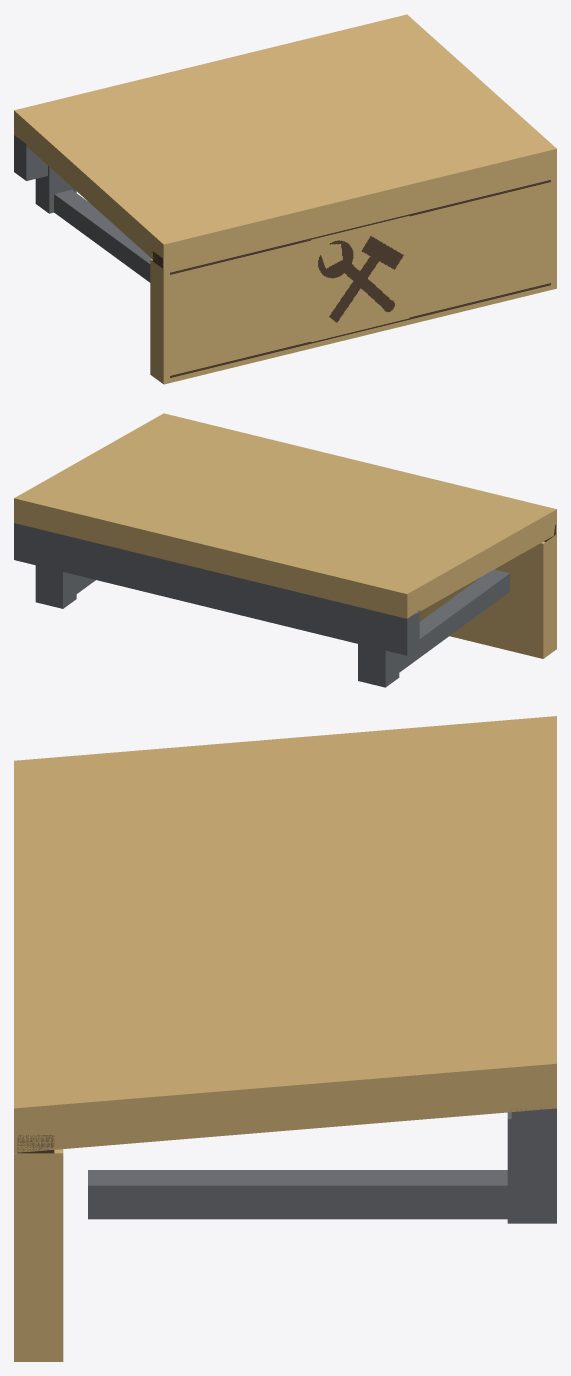
File: building-business-hardware-compact.glb
3 views of the same model, one above another, from view 1: azimuth 30°, elevation 25°; view 2: azimuth 150°, elevation 25°; view 3: azimuth 270°, elevation 25° (orthographic). The views are drawn at different scales.
Visible parts, largest first — view 1: business-hardware-compact; view 2: business-hardware-compact; view 3: business-hardware-compact.
Part boxes in pixels (x1=…): business-hardware-compact: x1=14, y1=14, x2=556, y2=384; business-hardware-compact: x1=14, y1=413, x2=556, y2=687; business-hardware-compact: x1=14, y1=716, x2=556, y2=1361.
Bounding box in the file's own units: 1 × 0.4 × 0.66.
4 materials, 1 textured.
